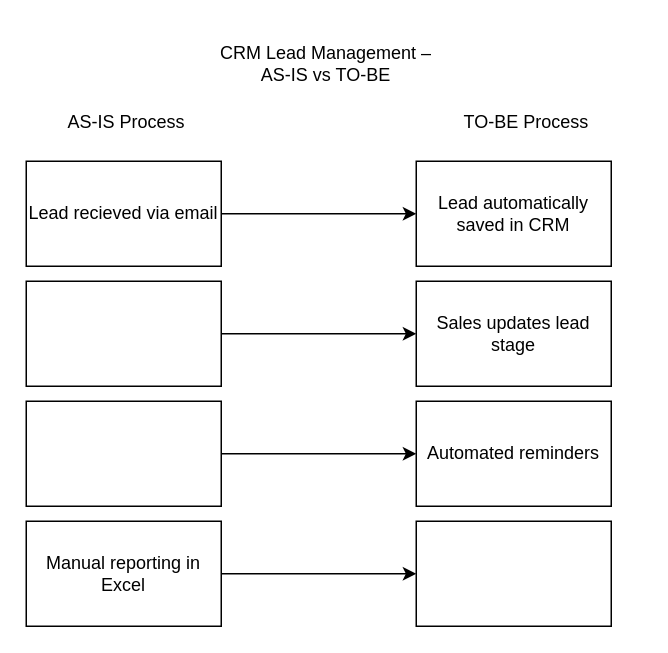
Some shapes in this 668 by 653 pixel diagram are drawn without their labels. Here are the shapes that lost their labels. From the top down, the box of each, then its label:
(25, 280, 221, 386): Sales enters lead manually
(25, 400, 221, 506): No follow-up reminders
(415, 520, 611, 626): Real-time dashboard
